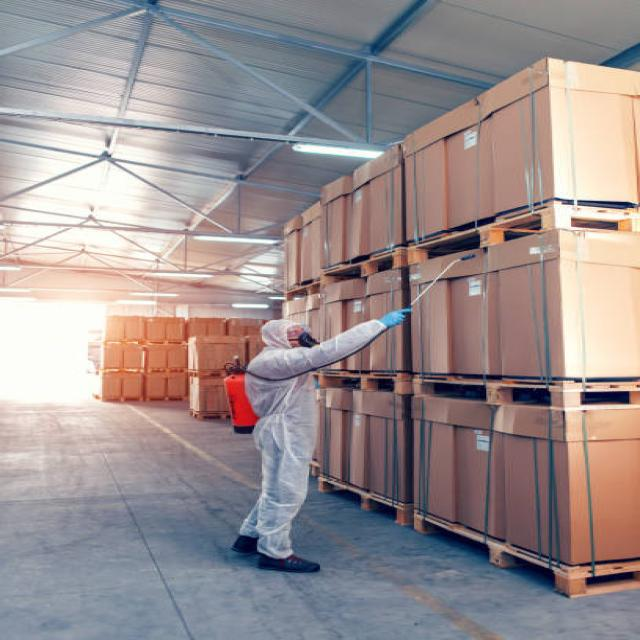Wooden-Pallets: (399, 493, 636, 602), (403, 193, 640, 276), (392, 369, 640, 420), (316, 239, 397, 305)
